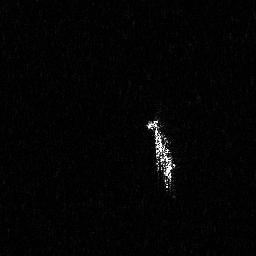ship: (144, 112, 182, 203)
